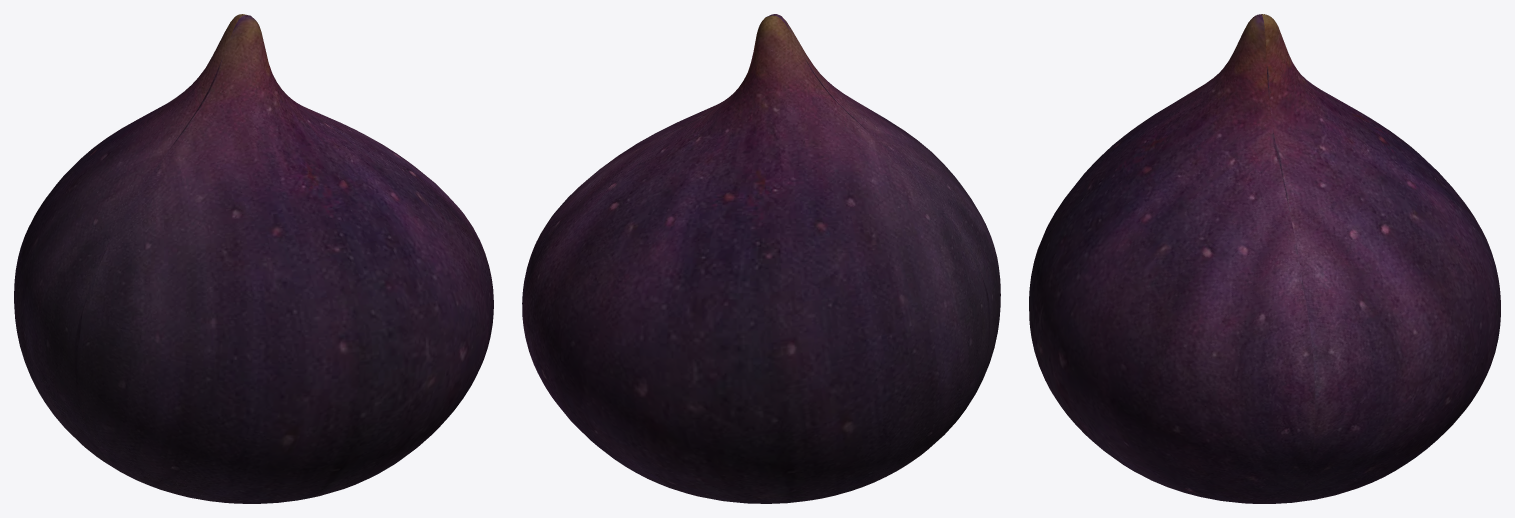
File: fig.glb
3 views of the same model, side by side, from view 1: azimuth 30°, elevation 25°; view 2: azimuth 150°, elevation 25°; view 3: azimuth 270°, elevation 25° (orthographic).
Visible parts, largest first — view 1: fig whole 1; view 2: fig whole 1; view 3: fig whole 1.
Boxes of the visible parts, <box> form: fig whole 1: <box>14,14,493,503</box>; fig whole 1: <box>522,14,1000,503</box>; fig whole 1: <box>1029,14,1500,503</box>.
Size of the model in its own units: 76.39 by 80.04 by 76.11.
1 material, 1 textured.
